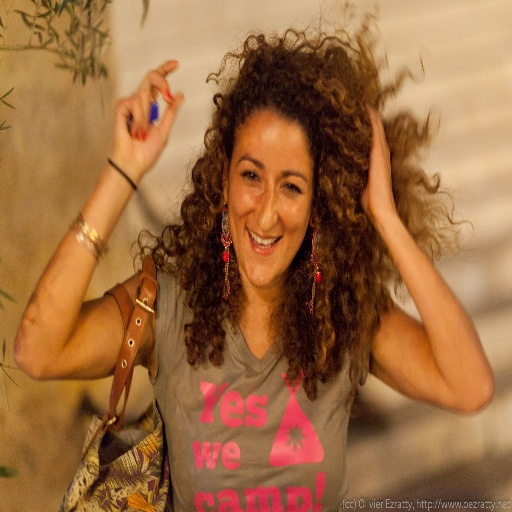hand: (115, 53, 183, 173), (357, 101, 395, 231)
